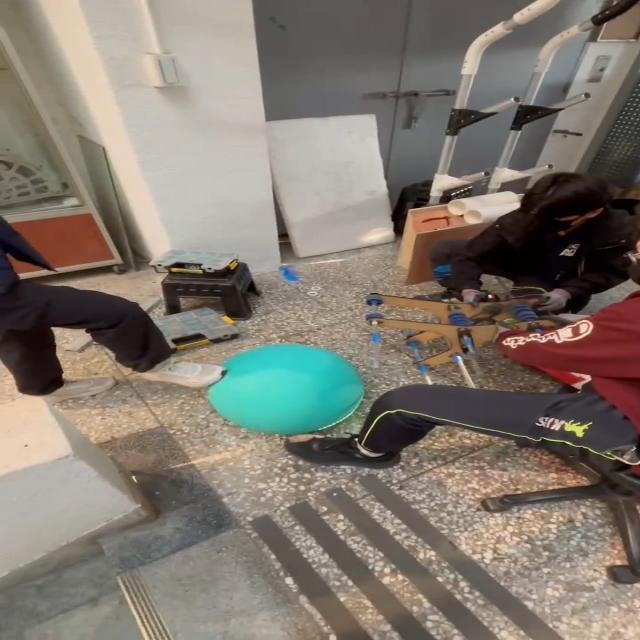ALGAE: (204, 342, 366, 436)
